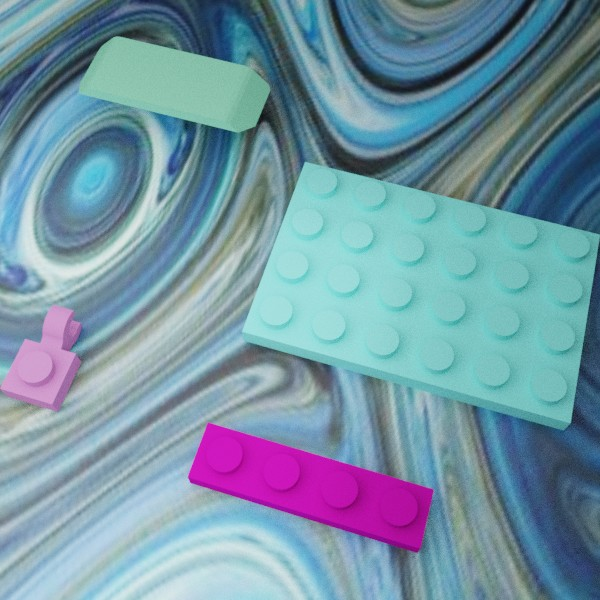lego: (242, 161, 599, 430), (187, 422, 434, 553), (78, 36, 270, 132), (0, 304, 82, 411)
